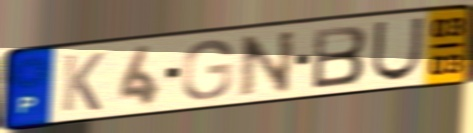4: (116, 43, 162, 110)
B: (310, 23, 370, 91)
G: (180, 37, 236, 102)
K: (59, 50, 106, 114)
N: (238, 28, 298, 99)
U: (369, 15, 427, 84)
